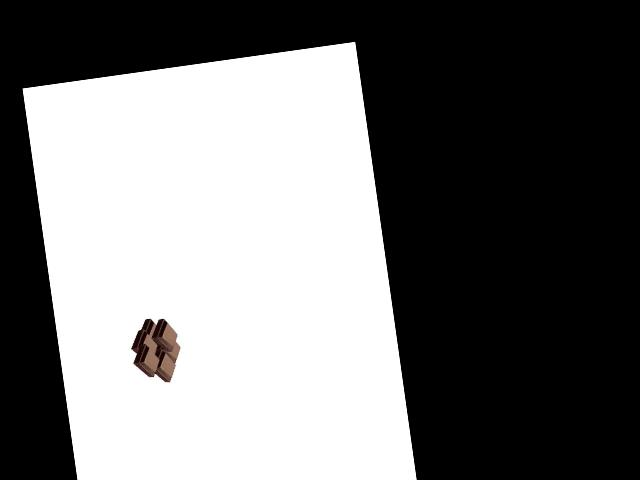chocolate: (129, 312, 186, 385)
